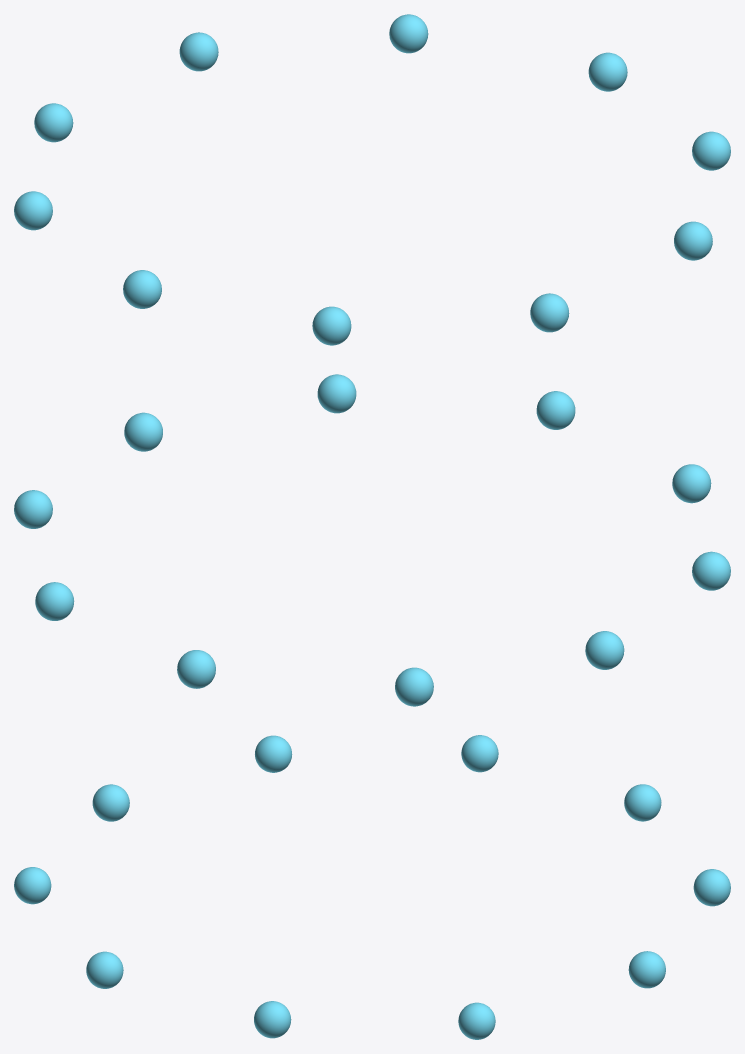
The picture shows the model from 3 angles, top to bottom: view 1: azimuth 30°, elevation 25°; view 2: azimuth 150°, elevation 25°; view 3: azimuth 270°, elevation 25°; orthographic projection. The views are drawn at different scales.
Visible parts, largest first — view 1: Sphere049; view 2: Sphere049; view 3: Sphere049.
Boxes of the visible parts, bbox=[...] form: Sphere049: bbox=[14, 14, 730, 345]; Sphere049: bbox=[14, 374, 730, 706]; Sphere049: bbox=[14, 735, 730, 1039].
Bounding box in the file's own units: 147 × 8.22 × 158.
